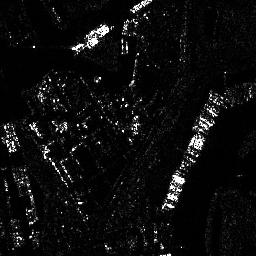ship: (82, 21, 106, 41), (128, 1, 155, 12), (210, 92, 227, 108), (205, 102, 220, 118), (198, 114, 215, 127), (171, 173, 187, 185), (195, 118, 209, 131), (162, 200, 175, 211), (170, 183, 182, 194), (71, 41, 84, 51), (166, 193, 179, 203), (192, 124, 205, 134), (184, 154, 196, 164)
